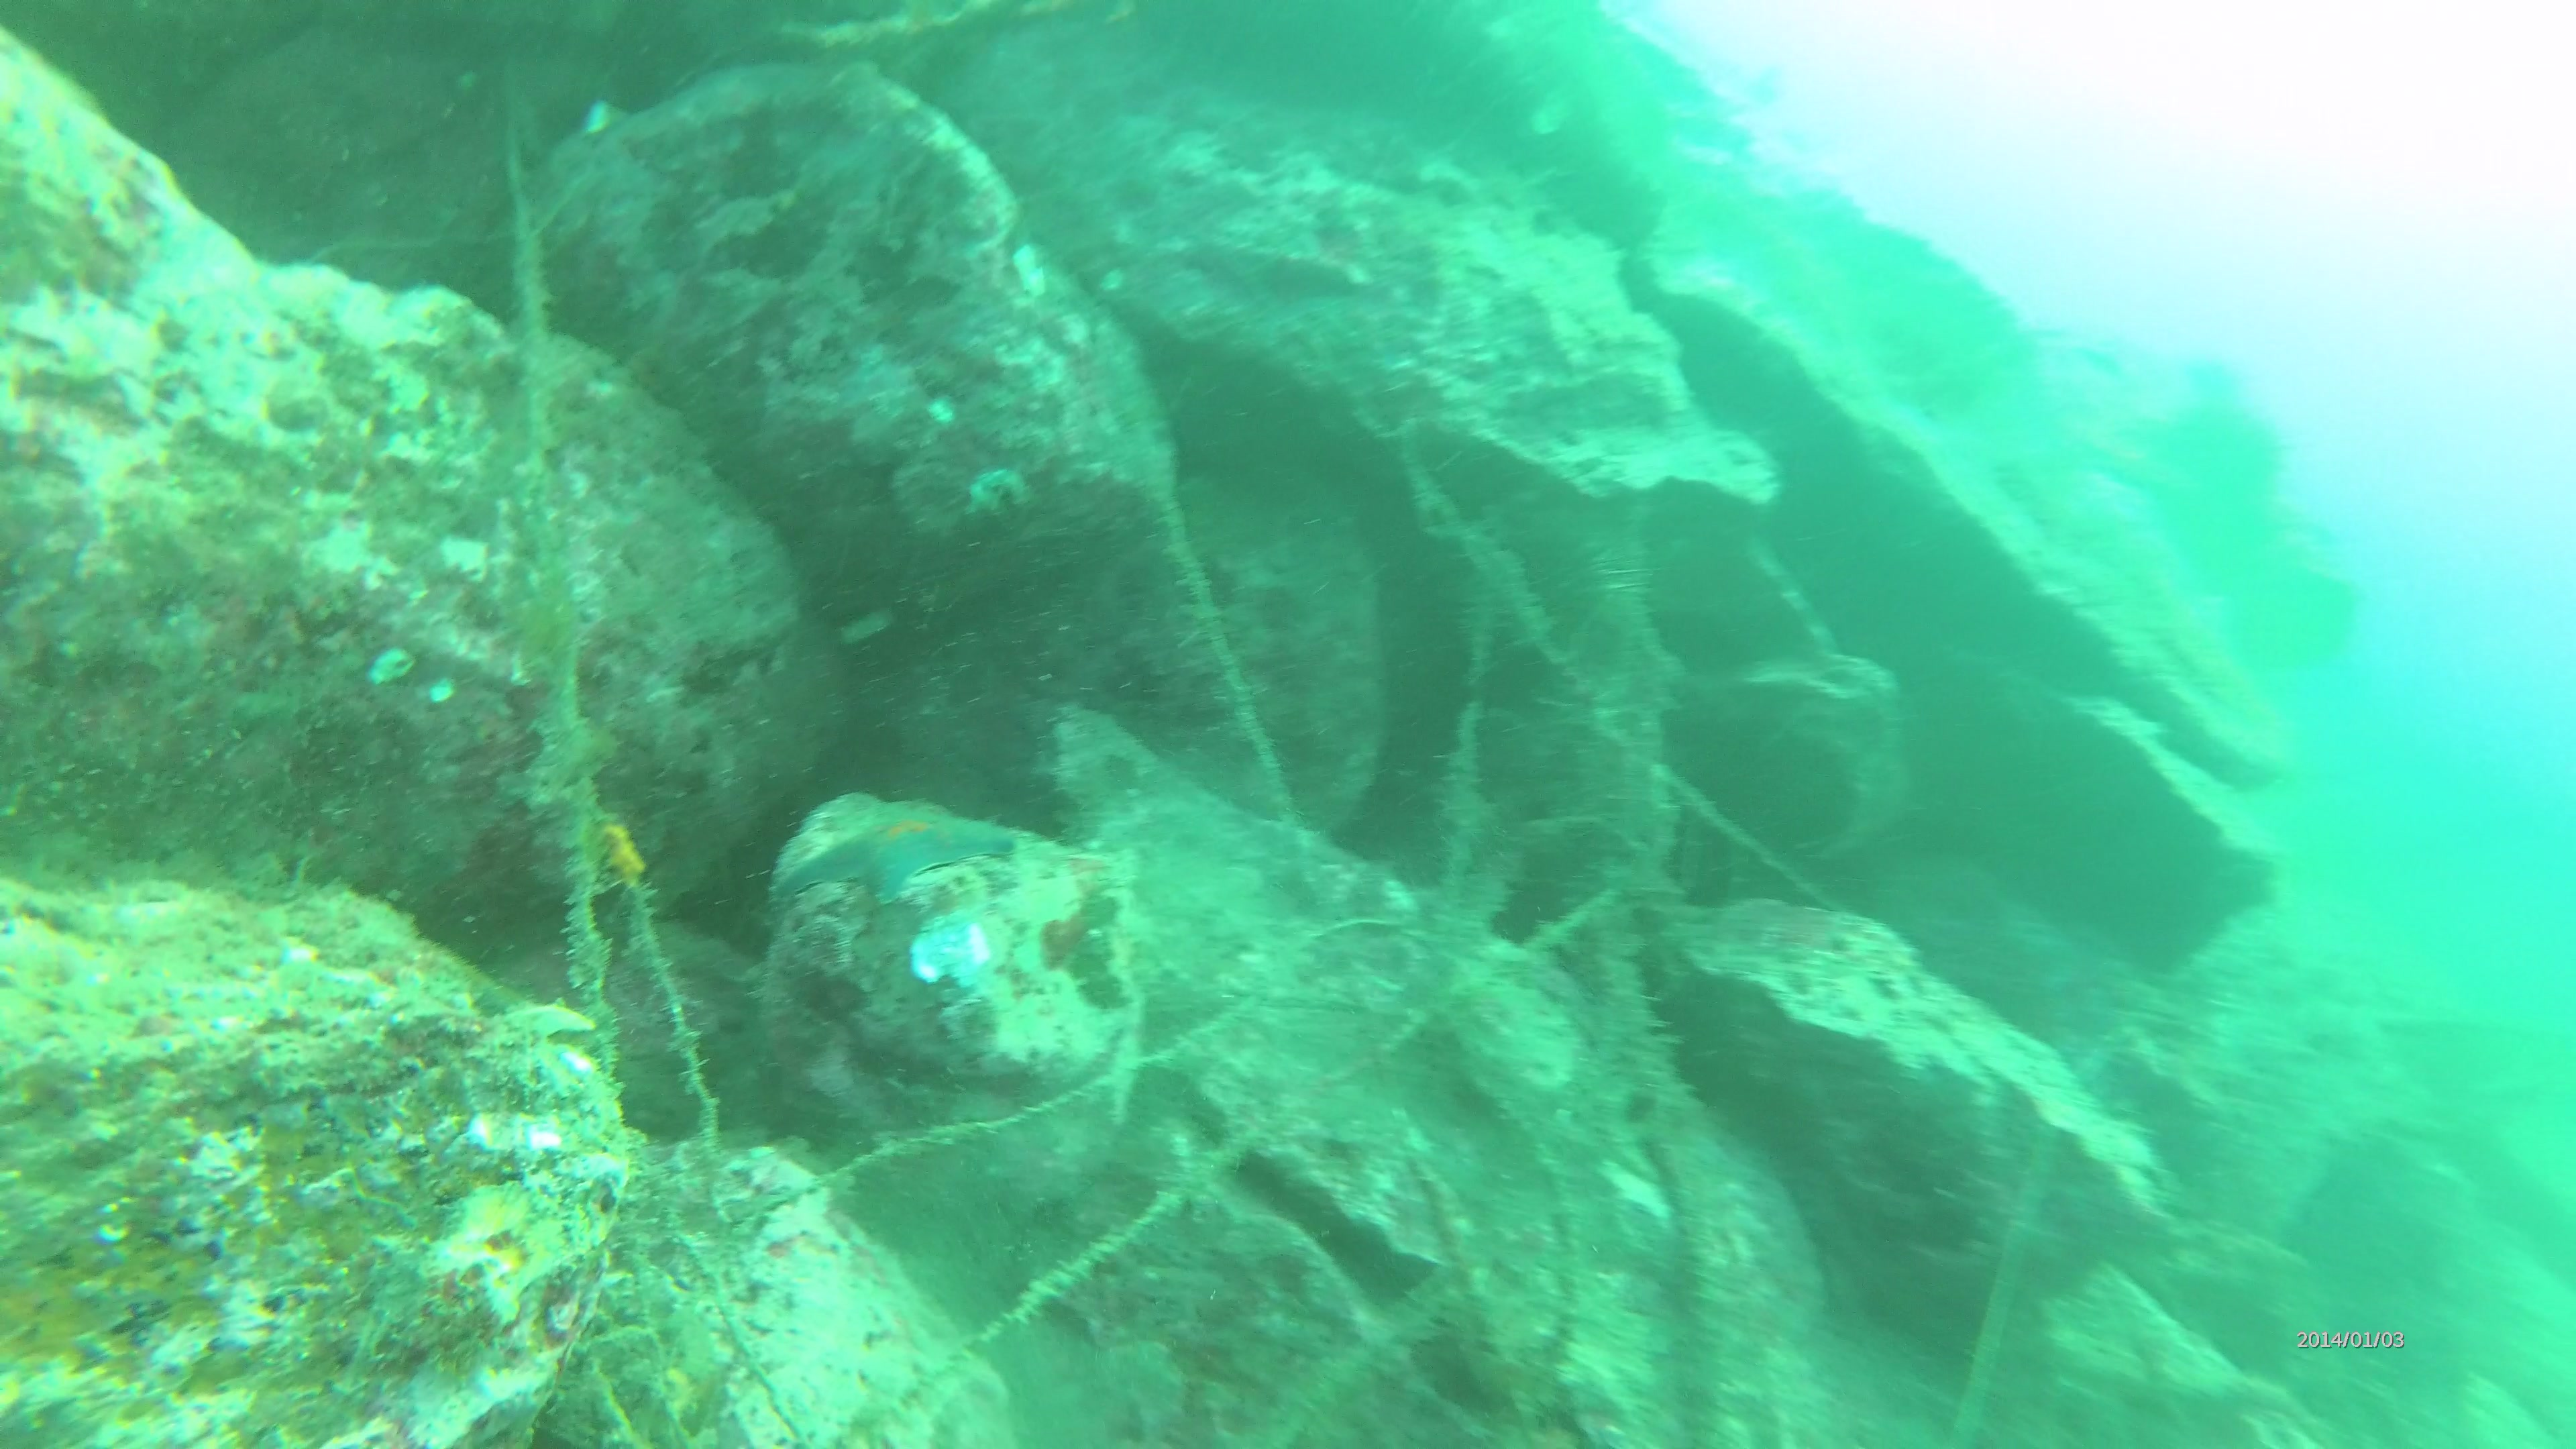starfish: (780, 793, 1028, 911), (403, 1185, 625, 1316)
